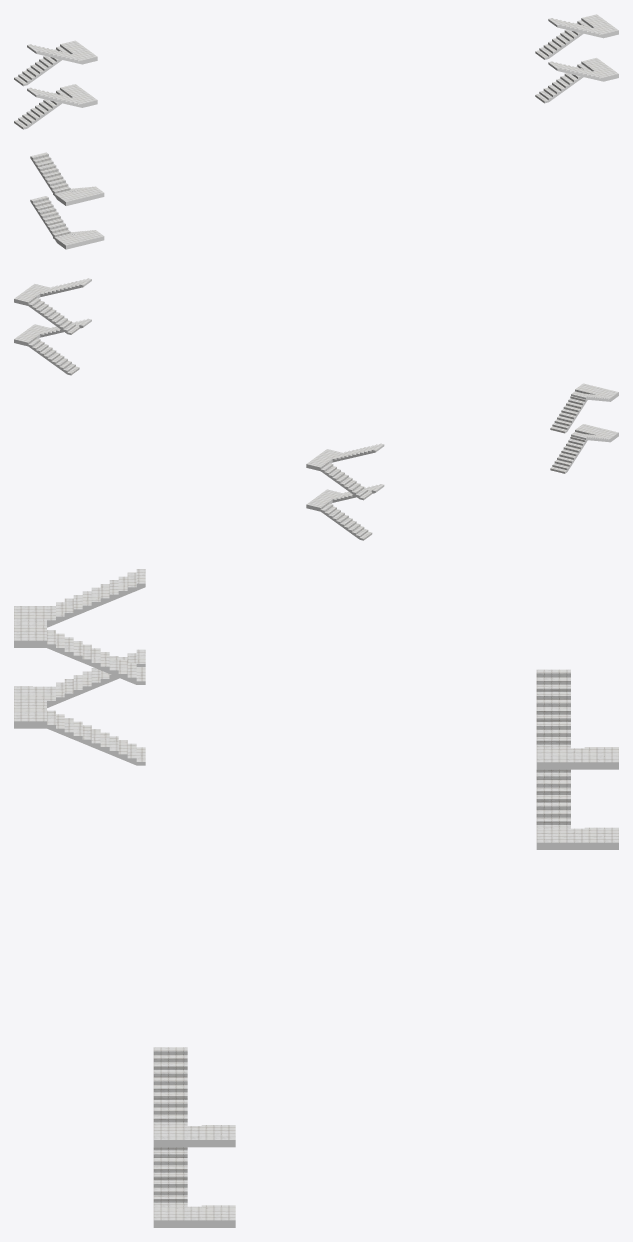
File: Stair-transformed.glb
3 views of the same model, one above another, from view 1: azimuth 30°, elevation 25°; view 2: azimuth 150°, elevation 25°; view 3: azimuth 270°, elevation 25° (orthographic). The views are drawn at different scales.
Parts seen in each view (by area): view 1: Stair; view 2: Stair; view 3: Stair.
Part boxes in pixels (x1,y1,x2,y2): Stair: (14,14,618,249); Stair: (14,278,618,540); Stair: (14,569,618,1227).
Size of the model in its own units: 23.05 by 3.26 by 11.04.
Materials: 2 (1 with a texture image).
